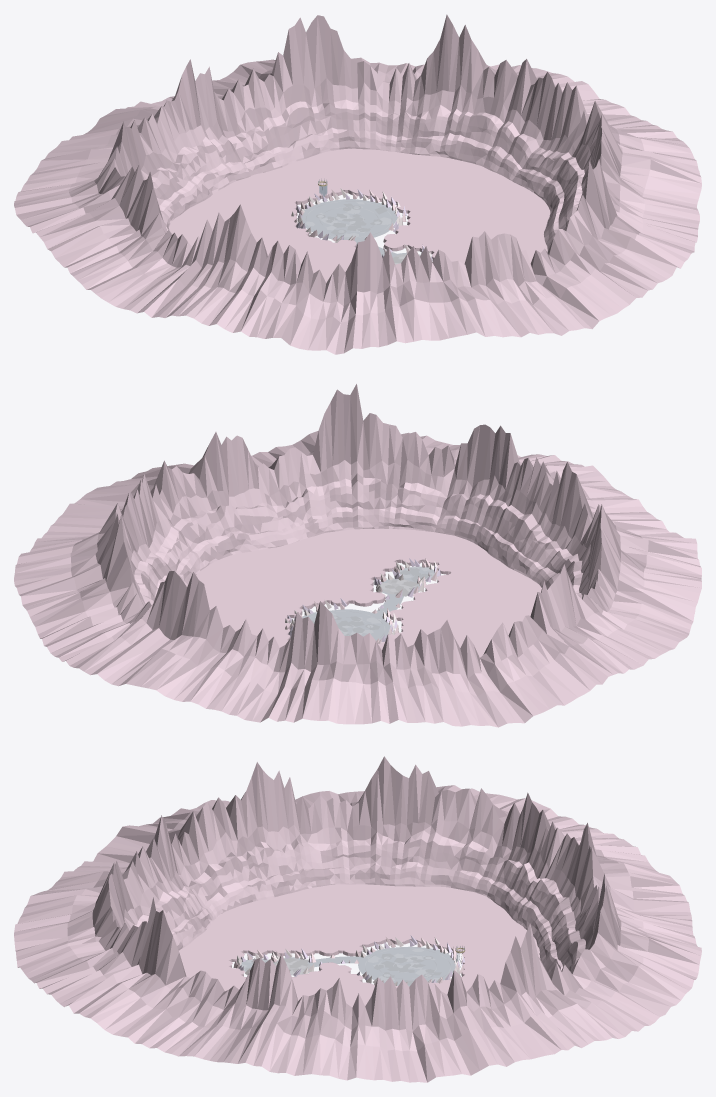
Rendered from map_rift_heart.glb.
3 renders of one model, top to bottom at view 1: azimuth 30°, elevation 25°; view 2: azimuth 150°, elevation 25°; view 3: azimuth 270°, elevation 25°, orthographic.
Visible parts, largest first — view 1: Z_rift_heart_penhascos, Z_rift_heart_morro_parede_0_0, Z_rift_heart_chao_coracao, Z_rift_heart_det_chao_-1_-1, Z_rift_heart_praca_coracao, Z_rift_heart_det_chao_0_-1; view 2: Z_rift_heart_penhascos, Z_rift_heart_morro_parede_0_0, Z_rift_heart_chao_coracao; view 3: Z_rift_heart_penhascos, Z_rift_heart_morro_parede_0_0, Z_rift_heart_chao_coracao, Z_rift_heart_det_chao_-1_-1, Z_rift_heart_praca_coracao, Z_rift_heart_det_obj_-1_-1, Z_rift_heart_det_chao_0_-1.
Part boxes in pixels (left/top/right/bottom): Z_rift_heart_penhascos: left=14, top=14, right=701, bottom=354; Z_rift_heart_morro_parede_0_0: left=168, top=148, right=550, bottom=282; Z_rift_heart_chao_coracao: left=303, top=202, right=391, bottom=237; Z_rift_heart_det_chao_-1_-1: left=305, top=204, right=366, bottom=238; Z_rift_heart_praca_coracao: left=302, top=199, right=397, bottom=240; Z_rift_heart_det_chao_0_-1: left=330, top=201, right=392, bottom=234; Z_rift_heart_penhascos: left=14, top=384, right=701, bottom=727; Z_rift_heart_morro_parede_0_0: left=186, top=528, right=541, bottom=657; Z_rift_heart_chao_coracao: left=309, top=612, right=385, bottom=638; Z_rift_heart_penhascos: left=14, top=756, right=701, bottom=1082; Z_rift_heart_morro_parede_0_0: left=179, top=884, right=540, bottom=1007; Z_rift_heart_chao_coracao: left=363, top=950, right=448, bottom=985; Z_rift_heart_det_chao_-1_-1: left=365, top=948, right=450, bottom=969; Z_rift_heart_praca_coracao: left=358, top=946, right=455, bottom=986; Z_rift_heart_det_obj_-1_-1: left=362, top=935, right=452, bottom=954; Z_rift_heart_det_chao_0_-1: left=365, top=964, right=450, bottom=985.
Size of the model in its own units: 282 by 57.08 by 283.
